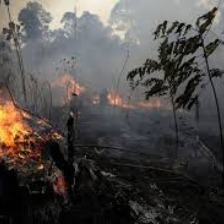incendio: (31, 65, 199, 121), (1, 90, 61, 182)
